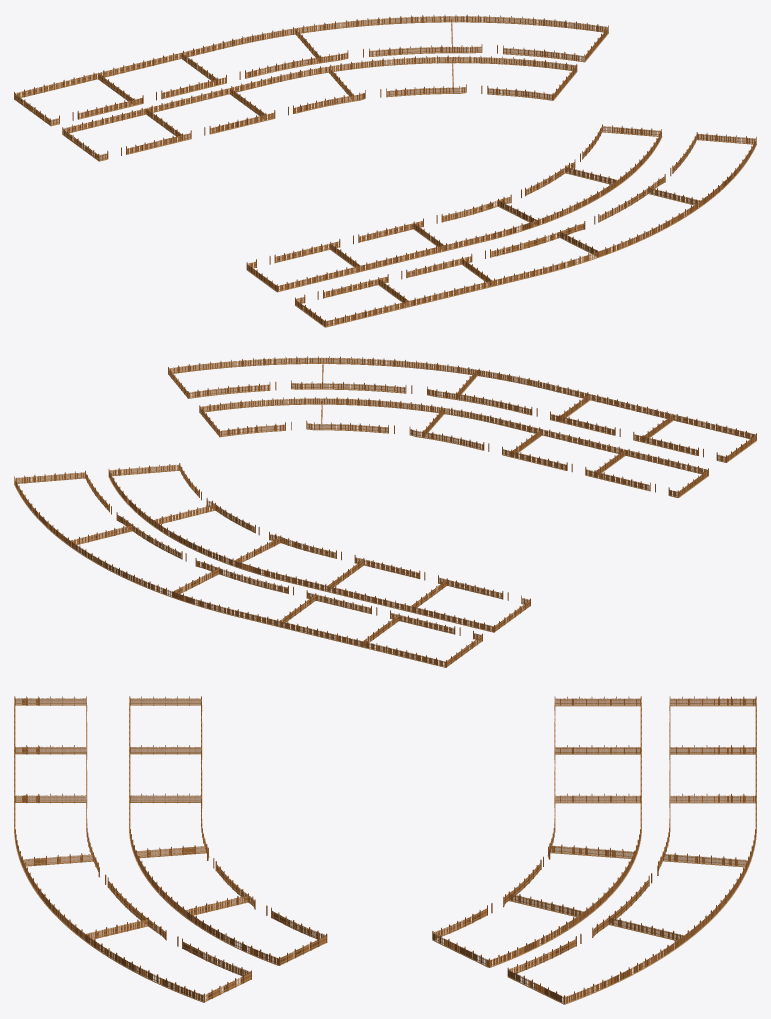
File: bz_fence.glb
3 renders of one model, top to bottom at view 1: azimuth 30°, elevation 25°; view 2: azimuth 150°, elevation 25°; view 3: azimuth 270°, elevation 25°, orthographic. The views are drawn at different scales.
Parts seen in each view (by area): view 1: Паркан_Помаранчеві_дальній, Паркан_Помаранчеві_ближній, Паркан_Зелені_дальній, Паркан_Зелені_ближній; view 2: Паркан_Зелені_дальній, Паркан_Помаранчеві_дальній, Паркан_Зелені_ближній, Паркан_Помаранчеві_ближній; view 3: Паркан_Помаранчеві_дальній, Паркан_Помаранчеві_ближній, Паркан_Зелені_дальній, Паркан_Зелені_ближній.
Boxes of the visible parts, x1=… form: Паркан_Помаранчеві_дальній: x1=14, y1=14, x2=608, y2=126; Паркан_Помаранчеві_ближній: x1=62, y1=55, x2=577, y2=161; Паркан_Зелені_дальній: x1=295, y1=132, x2=756, y2=327; Паркан_Зелені_ближній: x1=246, y1=124, x2=662, y2=292; Паркан_Зелені_дальній: x1=168, y1=356, x2=756, y2=462; Паркан_Помаранчеві_дальній: x1=14, y1=470, x2=482, y2=667; Паркан_Зелені_ближній: x1=199, y1=397, x2=708, y2=497; Паркан_Помаранчеві_ближній: x1=108, y1=463, x2=530, y2=632; Паркан_Помаранчеві_дальній: x1=507, y1=696, x2=756, y2=1004; Паркан_Помаранчеві_ближній: x1=432, y1=696, x2=641, y2=967; Паркан_Зелені_дальній: x1=14, y1=696, x2=251, y2=1002; Паркан_Зелені_ближній: x1=129, y1=696, x2=327, y2=965.
Bounding box in the file's own units: 123 × 1.98 × 129.
